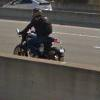Motorcycle: (8, 11, 76, 62)
